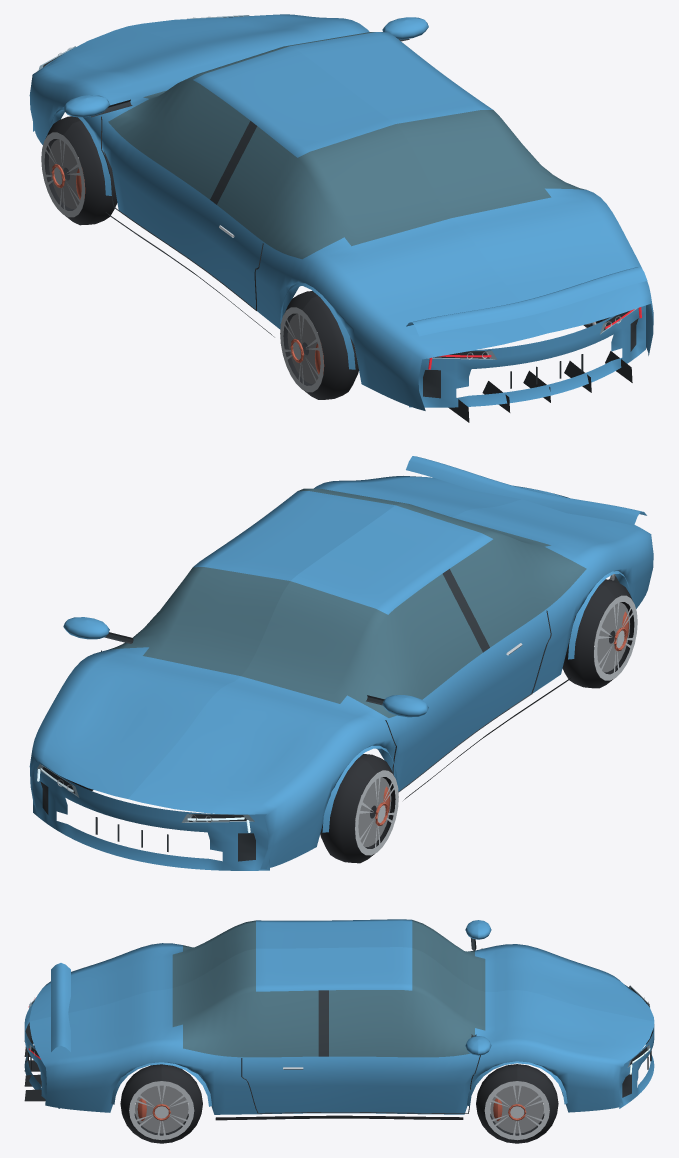
The model's file is solaris_v_low.glb.
The picture shows the model from 3 angles, top to bottom: view 1: azimuth 30°, elevation 25°; view 2: azimuth 150°, elevation 25°; view 3: azimuth 270°, elevation 25°; orthographic projection. The views are drawn at different scales.
Parts seen in each view (by area): view 1: Body, Wheel_2, Wheel_0; view 2: Body, Wheel_0, Wheel_2; view 3: Body, Wheel_1, Wheel_3.
Part boxes in pixels (x1,y1,x2,y2): Body: (29, 14, 653, 422); Wheel_2: (280, 291, 358, 399); Wheel_0: (41, 116, 117, 225); Body: (29, 456, 653, 870); Wheel_0: (320, 754, 398, 863); Wheel_2: (562, 579, 637, 688); Body: (24, 919, 654, 1120); Wheel_1: (476, 1064, 558, 1143); Wheel_3: (120, 1064, 202, 1143).
Bounding box in the file's own units: 2.49 × 1.27 × 5.2.
